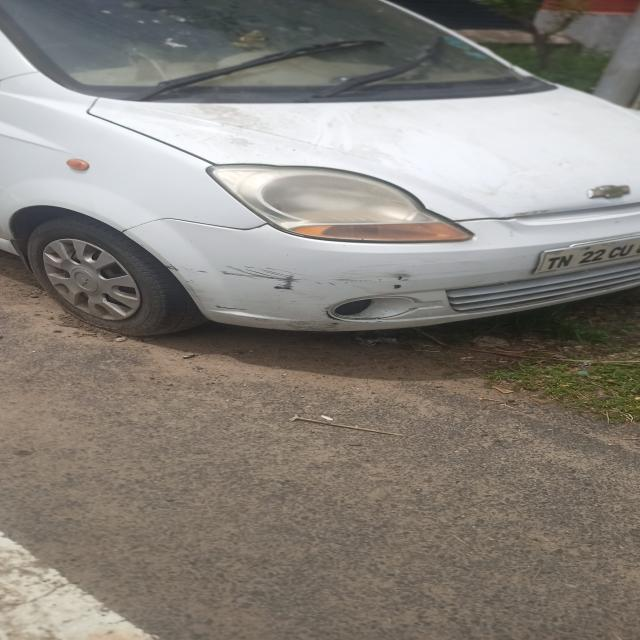scratch: (166, 263, 416, 292), (208, 301, 352, 332)
